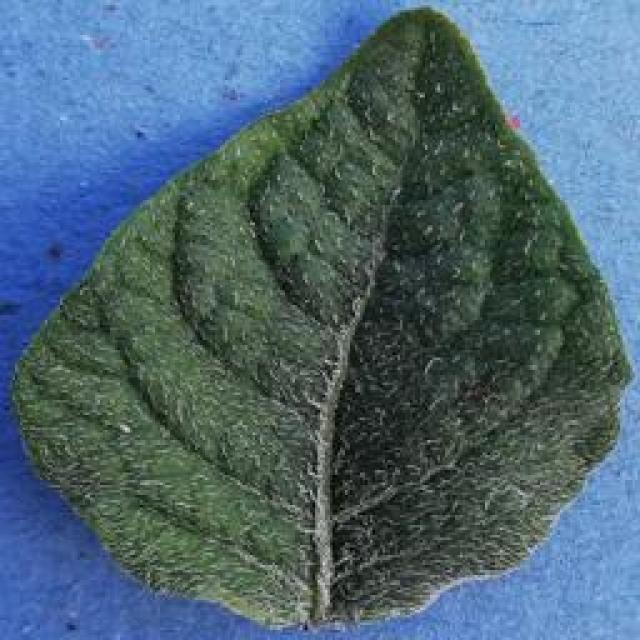Potato_Healthy: (15, 6, 622, 626)
